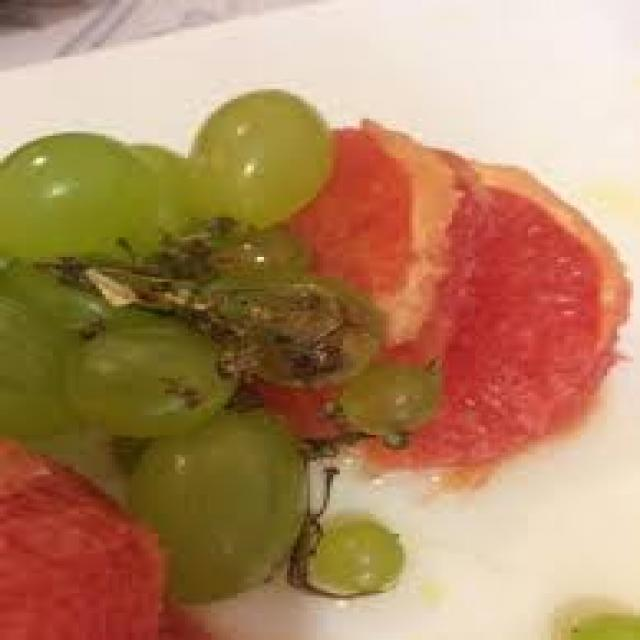organic waste: (237, 119, 627, 467), (0, 435, 198, 637), (125, 398, 307, 600), (66, 311, 231, 440), (0, 128, 155, 262), (192, 89, 324, 222), (241, 272, 376, 383), (0, 291, 96, 435), (327, 361, 452, 442), (116, 141, 194, 237), (0, 257, 102, 323), (205, 212, 310, 274), (314, 517, 402, 588), (567, 610, 637, 638)
